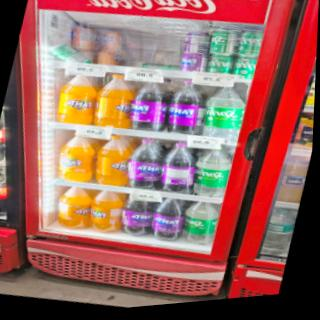Drinks: (202, 82, 252, 141), (188, 140, 235, 199), (176, 194, 223, 250), (258, 205, 297, 259)
beverage: (160, 73, 206, 137), (116, 133, 165, 192), (51, 131, 99, 187), (53, 68, 97, 127), (127, 74, 170, 133), (152, 137, 195, 196), (89, 133, 131, 187), (91, 70, 130, 128), (51, 184, 95, 234), (144, 196, 187, 246), (83, 187, 121, 238), (117, 194, 154, 238), (43, 42, 97, 68), (206, 24, 243, 59), (203, 48, 239, 79), (179, 27, 211, 59), (138, 54, 183, 76), (69, 21, 102, 51), (179, 49, 210, 76), (101, 26, 130, 54), (238, 27, 263, 58), (232, 51, 257, 79), (94, 45, 124, 68)
